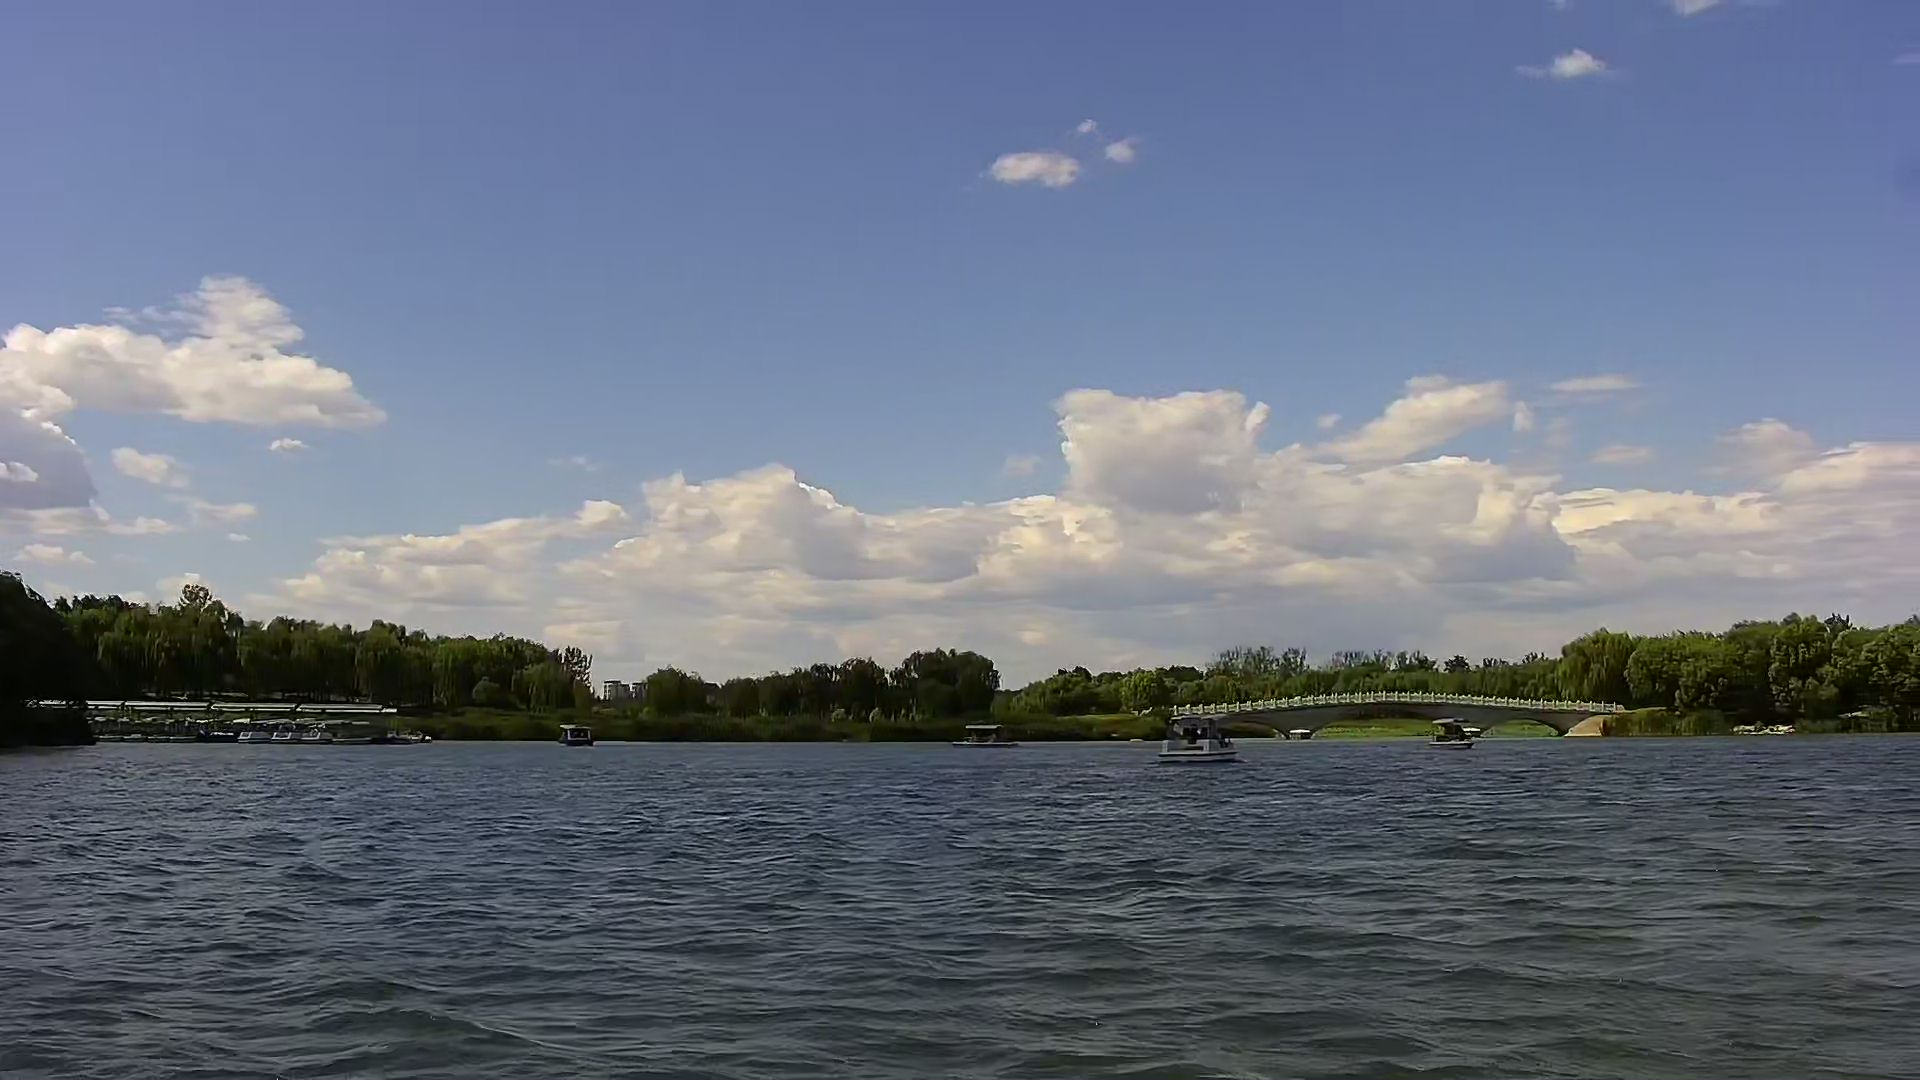boat: (1147, 705, 1245, 770), (1433, 709, 1493, 758), (945, 713, 1021, 752), (553, 717, 600, 754)
bridge: (1143, 682, 1605, 740)
